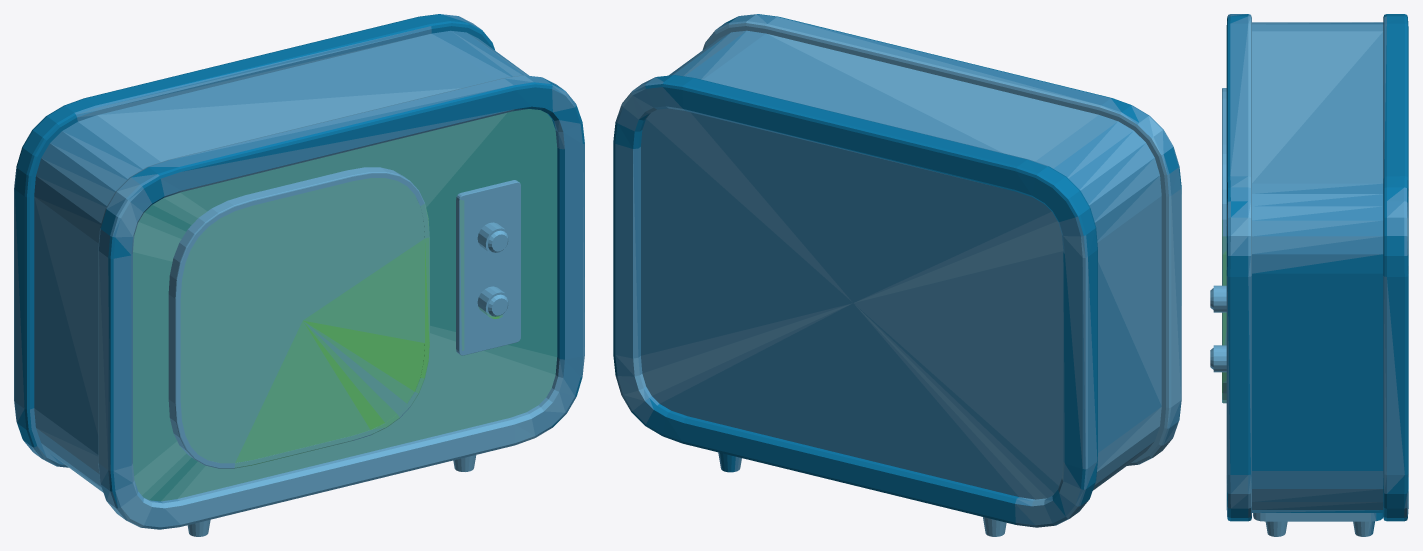
3 views of the same model, side by side, from view 1: azimuth 30°, elevation 25°; view 2: azimuth 150°, elevation 25°; view 3: azimuth 270°, elevation 25° (orthographic). The views are drawn at different scales.
Visible parts, largest first — view 1: world; view 2: world; view 3: world.
Boxes of the visible parts, bbox=[...] form: world: bbox=[14, 14, 584, 536]; world: bbox=[613, 14, 1181, 536]; world: bbox=[1210, 14, 1408, 536].
Size of the model in its own units: 1 by 0.7926 by 0.3863.
